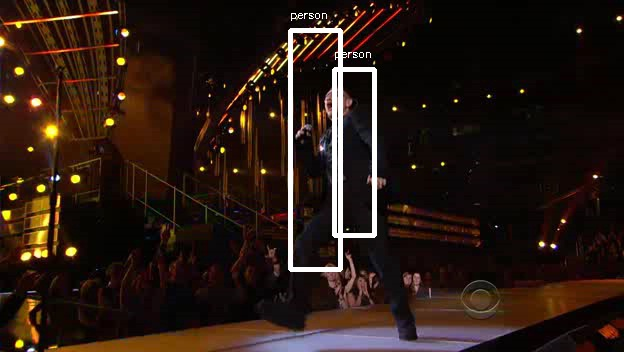person: (297, 85, 383, 238), (294, 85, 380, 238), (300, 85, 386, 238), (297, 82, 383, 235), (297, 88, 383, 241)
target_negative: (483, 12, 611, 291), (495, 40, 606, 162), (460, 105, 603, 161), (219, 148, 389, 154), (623, 146, 624, 173)
